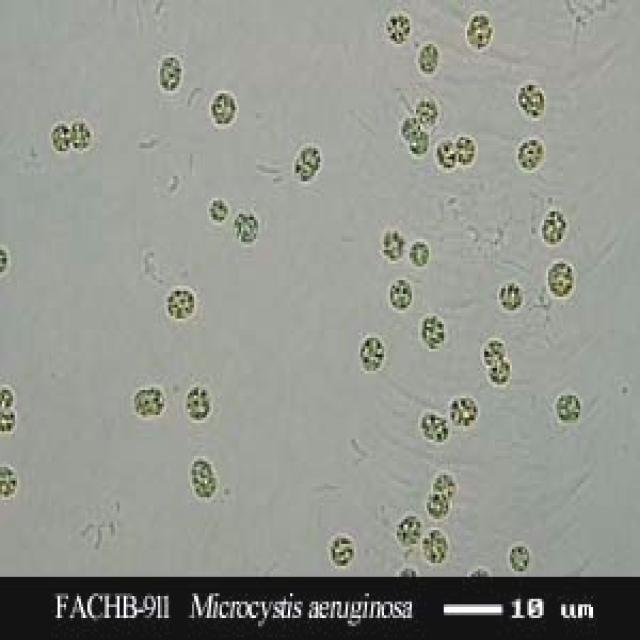Blue Green Algae: (514, 135, 548, 173), (546, 258, 576, 300), (420, 310, 450, 352), (420, 527, 452, 566), (516, 80, 546, 121), (540, 206, 570, 247), (190, 456, 217, 500), (156, 52, 183, 94), (207, 91, 239, 126), (68, 112, 94, 154), (465, 14, 493, 52), (164, 286, 197, 318), (359, 335, 386, 374), (450, 393, 480, 428), (418, 407, 448, 442), (328, 533, 358, 568), (186, 382, 211, 423), (554, 390, 584, 423), (454, 129, 478, 168), (478, 335, 508, 365), (382, 11, 409, 44), (397, 514, 422, 549), (433, 467, 459, 500), (233, 208, 258, 242), (49, 121, 73, 156), (433, 138, 459, 170), (388, 278, 414, 310), (412, 44, 439, 74), (422, 492, 448, 522), (205, 195, 230, 225), (497, 280, 523, 308), (407, 236, 431, 266), (145, 384, 166, 418), (486, 360, 512, 387), (2, 467, 21, 500), (132, 388, 152, 418), (414, 93, 435, 121), (299, 143, 320, 170), (508, 544, 531, 568), (399, 115, 418, 140), (409, 129, 428, 154)
